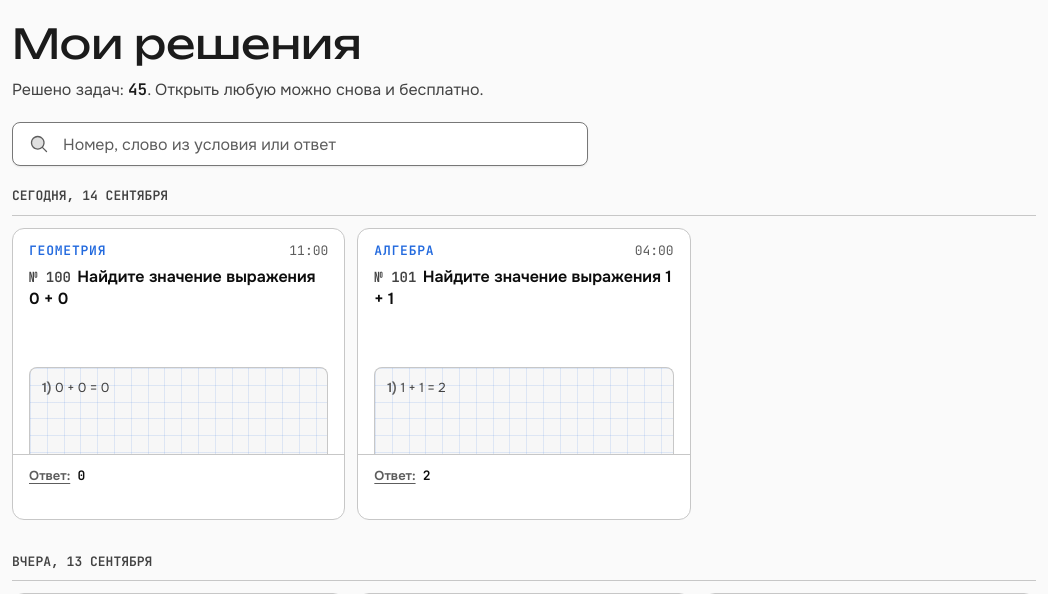
Scenario: SolutionsPage › ищет по номеру задачи
The image size is (1048, 594).
In the field named "Найти решение": (316, 144) [61, 123, 571, 165], type "№ 107"
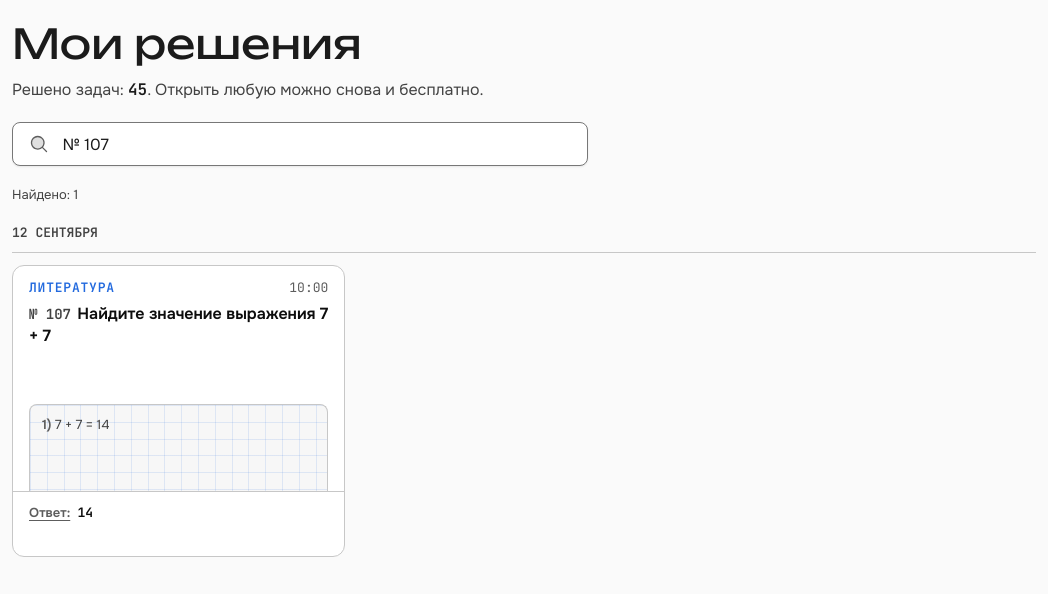
Expected: the number of buttons with class "solution-card" is 1, [12, 265, 345, 557]
Expected: the message reads "Найдено: 1", [12, 186, 78, 203]
